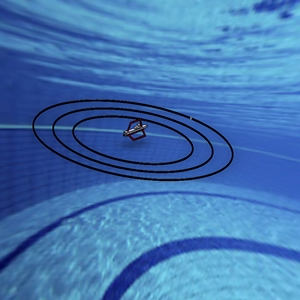circle: (27, 88, 242, 182)
submarine: (112, 113, 153, 145)
